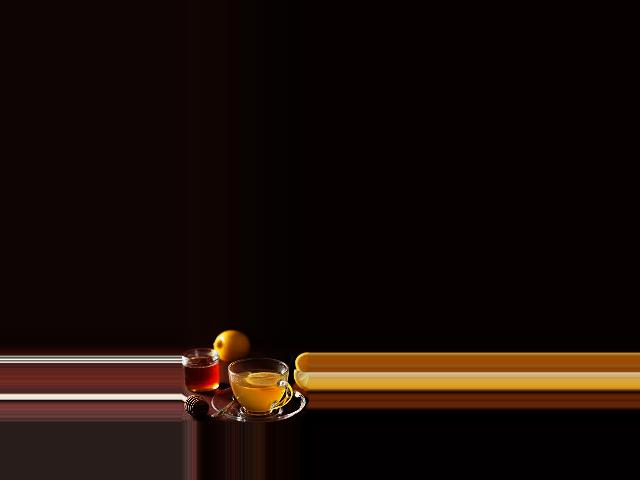lemon: (210, 329, 256, 363)
